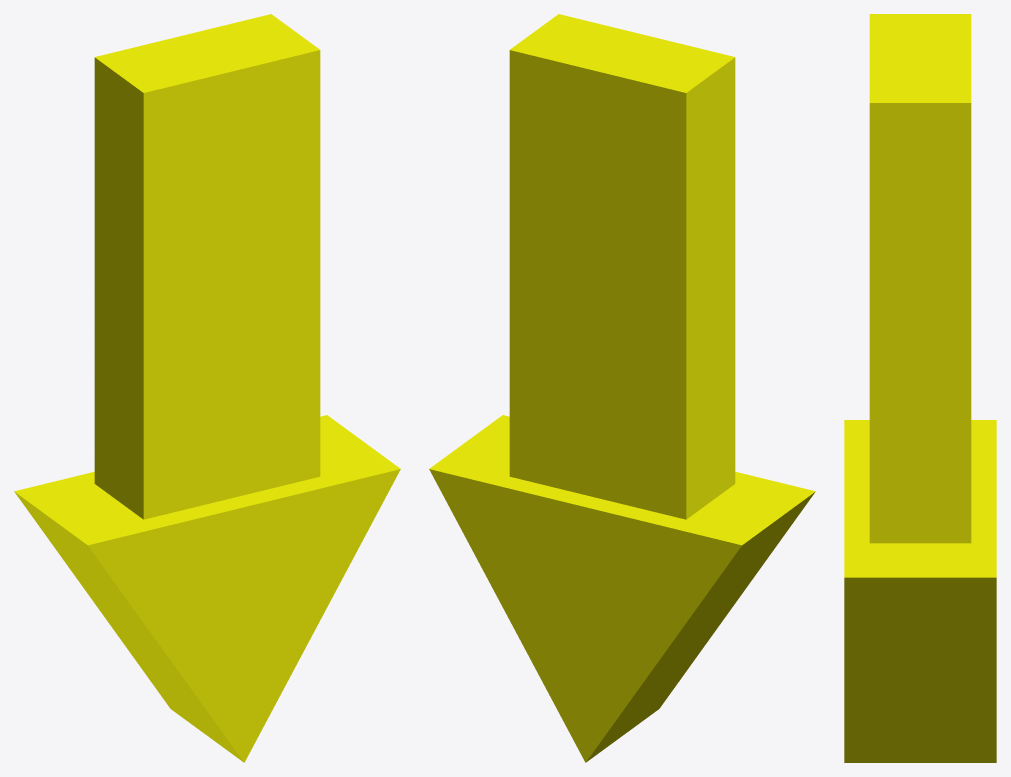
The model's file is Mui ten.gltf.
3 renders of one model, left to right at view 1: azimuth 30°, elevation 25°; view 2: azimuth 150°, elevation 25°; view 3: azimuth 270°, elevation 25°, orthographic. The views are drawn at different scales.
Visible parts, largest first — view 1: Mui ten; view 2: Mui ten; view 3: Mui ten.
Boxes of the visible parts, x1,y1,x2,y2 form: Mui ten: [14, 14, 400, 762]; Mui ten: [429, 14, 815, 762]; Mui ten: [844, 14, 996, 762].
Bounding box in the file's own units: 2.21 × 4.61 × 0.9034.
Materials: 1 (1 with a texture image).
